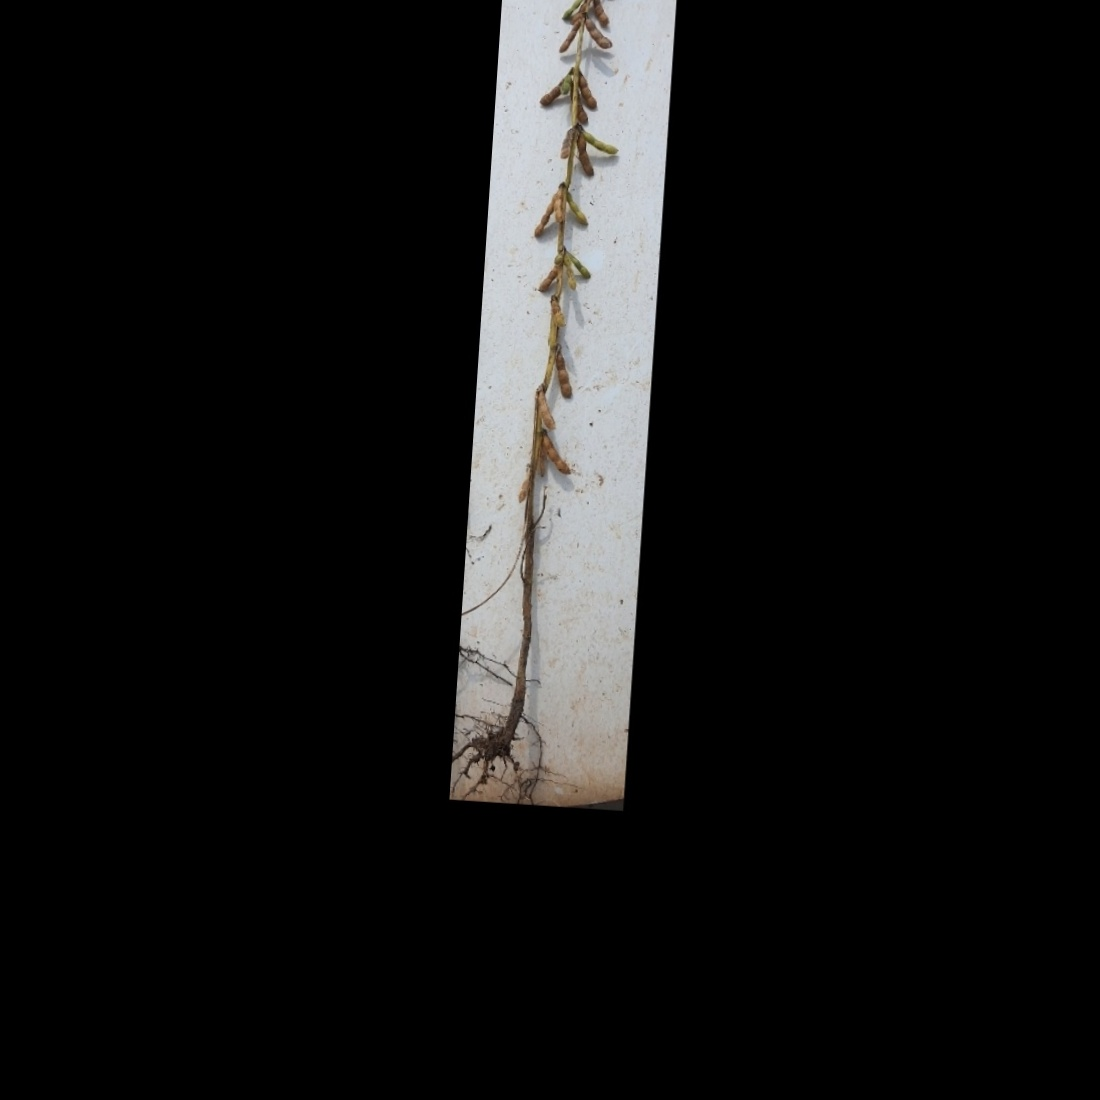pod: (540, 436, 575, 478), (580, 17, 618, 51), (576, 125, 621, 154), (575, 68, 606, 110), (571, 134, 597, 180), (534, 387, 560, 432), (553, 349, 575, 402), (563, 187, 591, 228), (532, 194, 555, 242), (555, 21, 582, 58), (536, 261, 558, 294), (558, 257, 578, 291), (589, 0, 612, 27), (561, 0, 586, 20), (514, 476, 531, 506)
soy: (468, 0, 658, 789)
